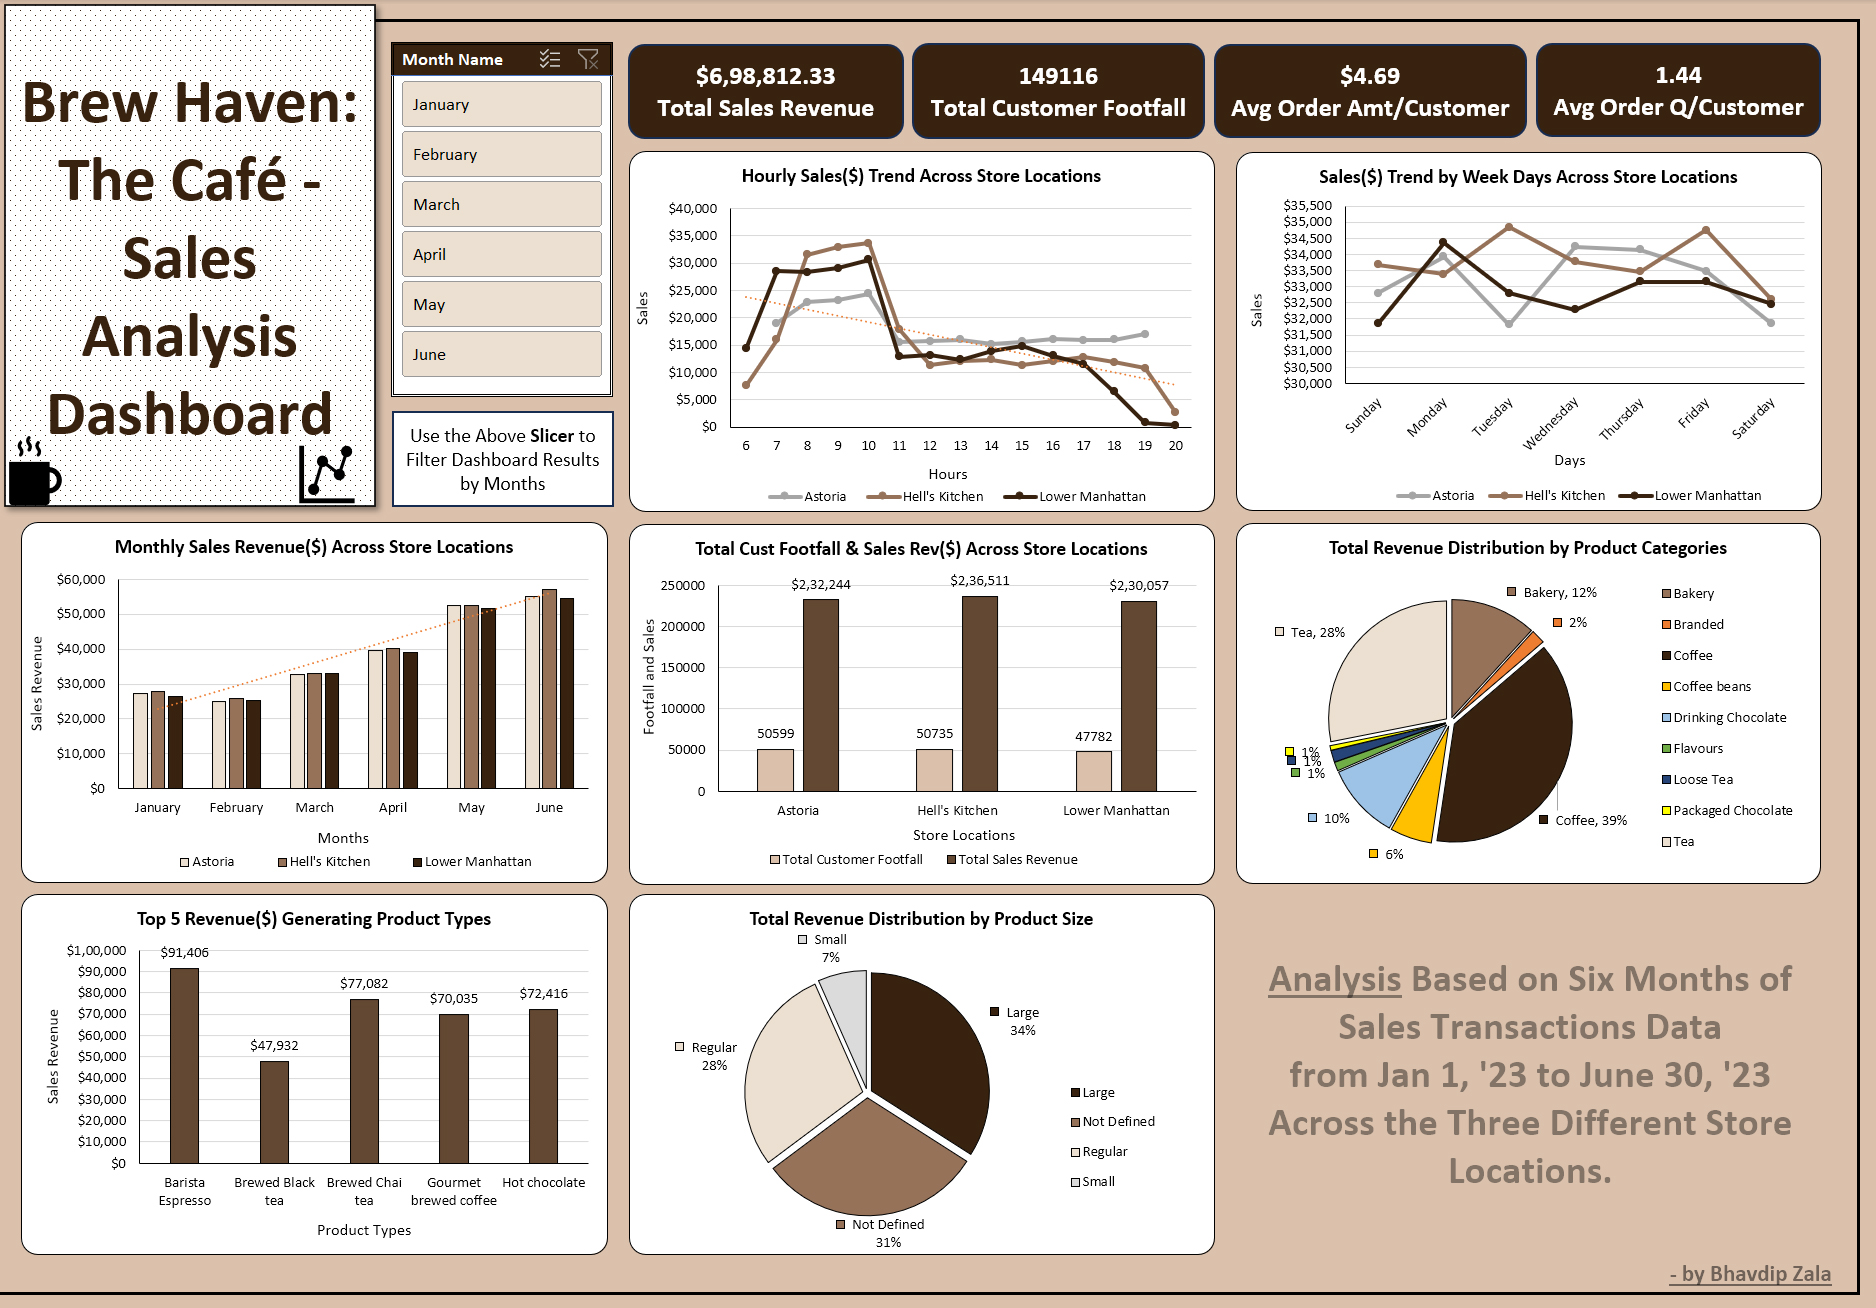

The page's visual inventory and layout, read from the dashboard file:
{"tool":"powerbi","page":{"name":"Dashboard","canvas":[1745,1025],"ordinal":0},"visuals":[{"type":"shape","box":[0,166.2,15.4,853],"z":0},{"type":"shape","box":[300,5,1438,20],"z":1000},{"type":"shape","box":[1305,25,425,420],"z":2000},{"type":"shape","box":[885,455,845,555],"z":3000},{"type":"shape","box":[15,185,855,780],"z":4000},{"type":"textbox","box":[3,5,302,170],"z":5000},{"type":"shape","title":"Key Performance Indicators (KPIs)","box":[330,25,965,140],"z":6000},{"type":"image","box":[0,115,70,75],"z":7000},{"type":"cardVisual","fields":{"Data":["Measures_.Avg Quantity Ordered"]},"box":[837,51,246,109],"z":8000},{"type":"donutChart","fields":{"Y":["Measures_.testkpi"],"Category":["dim_dates.weekday_or_weekend"]},"box":[455,700,410,260],"z":9000},{"type":"cardVisual","fields":{"Data":["Measures_.Avg Order Value"]},"box":[1088,51.1,202,108.9],"z":10000},{"type":"lineChart","fields":{"Series":["dim_stores.store_location"],"Category":["fact_transactions.Hour"],"Y":["Measures_.testkpi"]},"box":[20,435,430,260],"z":11000},{"type":"cardVisual","fields":{"Data":["Measures_.Total Transactions"]},"box":[586,50.6,246,109.4],"z":12000},{"type":"columnChart","fields":{"Category":["dim_dates.weekday_name"],"Y":["Measures_.testkpi"]},"box":[455,435,410,260],"z":13000},{"type":"cardVisual","fields":{"Data":["Measures_.Total Sales Revenue"]},"box":[335.8,50,246,109.4],"z":14000},{"type":"clusteredColumnChart","fields":{"Category":["dim_dates.month_name"],"Y":["Measures_.testkpi"]},"box":[20,700,430,260],"z":15000},{"type":"cardVisual","fields":{"Data":["Measures_.Month on Month Sales Revenue"]},"box":[360,121.3,232.4,31.6],"z":16000},{"type":"cardVisual","fields":{"Data":["Measures_.MoM Sales Orders"]},"box":[611,121,232.2,31],"z":17000},{"type":"donutChart","fields":{"Category":["dim_stores.store_location"],"Y":["Measures_.testkpi"]},"box":[885,185,410,260],"z":18000},{"type":"cardVisual","fields":{"Data":["Measures_.MoM AOV"]},"box":[1113,121,174.4,31],"z":19000},{"type":"columnChart","fields":{"Category":["dim_dates.Date.Variation.Date Hierarchy.Day"],"Y":["Measures_.testkpi"]},"box":[20,210,845.7,220],"z":20000},{"type":"cardVisual","fields":{"Data":["Measures_.MoM AQO"]},"box":[862,121,232,31],"z":21000},{"type":"barChart","fields":{"Category":["dim_products.product_detail"],"Y":["Measures_.testkpi"]},"box":[890,480,420,525],"z":22000},{"type":"treemap","fields":{"Group":["dim_products.product_category"],"Values":["Measures_.testkpi"]},"box":[1315,480,410,260],"z":23000},{"type":"pieChart","fields":{"Category":["dim_products.product_size"],"Y":["Measures_.testkpi"]},"box":[1315,745,410,260],"z":24000},{"type":"shape","title":"Filters","box":[1315,35,405,400],"z":25000},{"type":"slicer","title":"Select Year","fields":{"Values":["dim_dates.year"]},"box":[1332,73,180,77],"z":26000},{"type":"advancedSlicerVisual","title":"Select Store(s)","fields":{"Values":["dim_stores.store_location"]},"box":[1332,166,180,162.9],"z":27000},{"type":"advancedSlicerVisual","title":"Analyse Sales By","fields":{"Values":["selected_metric.Analyse Sales By"]},"box":[1522.9,165.7,180,162.9],"z":28000},{"type":"shape","box":[614,252,251,18],"z":29000},{"type":"card","fields":{"Values":["Measures_.testkpi"]},"box":[1034,293,112,62],"z":30000},{"type":"slicer","title":"Select Month(s)","fields":{"Values":["dim_dates.month_name"]},"box":[1523,73,180,77],"z":31000},{"type":"shape","box":[1328.6,318.6,384.3,40],"z":32000},{"type":"cardVisual","title":"Showing results for","fields":{"Data":["Measures_.current filters"]},"box":[1325,346.7,393.3,108.3],"z":33000},{"type":"shape","box":[1253,338.6,300,31.4],"z":34000},{"type":"shape","box":[23.6,495,23.6,119.1],"z":35000},{"type":"shape","box":[458,495,23.6,119.1],"z":36000},{"type":"textbox","box":[635,990,261.4,30],"z":37000},{"type":"shape","box":[1730,14,15,1005],"z":38000},{"type":"shape","box":[6,1010,1731,15.4],"z":39000}]}

Visuals, with their boxes on the page's 1745x1025 design canvas (x1, y1, x2, y2). These are canvas units, not pixel positions in the 1876x1308 screenshot, which may show the page scaled, cropped or inside an application window:
shape: (0, 166, 15, 1019)
shape: (300, 5, 1738, 25)
shape: (1305, 25, 1730, 445)
shape: (885, 455, 1730, 1010)
shape: (15, 185, 870, 965)
textbox: (3, 5, 305, 175)
"Key Performance Indicators (KPIs)" shape: (330, 25, 1295, 165)
image: (0, 115, 70, 190)
cardVisual - Measures_.Avg Quantity Ordered: (837, 51, 1083, 160)
donutChart - Measures_.testkpi x dim_dates.weekday_or_weekend: (455, 700, 865, 960)
cardVisual - Measures_.Avg Order Value: (1088, 51, 1290, 160)
lineChart - dim_stores.store_location x fact_transactions.Hour: (20, 435, 450, 695)
cardVisual - Measures_.Total Transactions: (586, 51, 832, 160)
columnChart - dim_dates.weekday_name x Measures_.testkpi: (455, 435, 865, 695)
cardVisual - Measures_.Total Sales Revenue: (336, 50, 582, 159)
clusteredColumnChart - dim_dates.month_name x Measures_.testkpi: (20, 700, 450, 960)
cardVisual - Measures_.Month on Month Sales Revenue: (360, 121, 592, 153)
cardVisual - Measures_.MoM Sales Orders: (611, 121, 843, 152)
donutChart - dim_stores.store_location x Measures_.testkpi: (885, 185, 1295, 445)
cardVisual - Measures_.MoM AOV: (1113, 121, 1287, 152)
columnChart - dim_dates.Date.Variation.Date Hierarchy.Day x Measures_.testkpi: (20, 210, 866, 430)
cardVisual - Measures_.MoM AQO: (862, 121, 1094, 152)
barChart - dim_products.product_detail x Measures_.testkpi: (890, 480, 1310, 1005)
treemap - dim_products.product_category x Measures_.testkpi: (1315, 480, 1725, 740)
pieChart - dim_products.product_size x Measures_.testkpi: (1315, 745, 1725, 1005)
"Filters" shape: (1315, 35, 1720, 435)
"Select Year" slicer: (1332, 73, 1512, 150)
"Select Store(s)" advancedSlicerVisual: (1332, 166, 1512, 329)
"Analyse Sales By" advancedSlicerVisual: (1523, 166, 1703, 329)
shape: (614, 252, 865, 270)
card - Measures_.testkpi: (1034, 293, 1146, 355)
"Select Month(s)" slicer: (1523, 73, 1703, 150)
shape: (1329, 319, 1713, 359)
"Showing results for" cardVisual: (1325, 347, 1718, 455)
shape: (1253, 339, 1553, 370)
shape: (24, 495, 47, 614)
shape: (458, 495, 482, 614)
textbox: (635, 990, 896, 1020)
shape: (1730, 14, 1745, 1019)
shape: (6, 1010, 1737, 1025)
